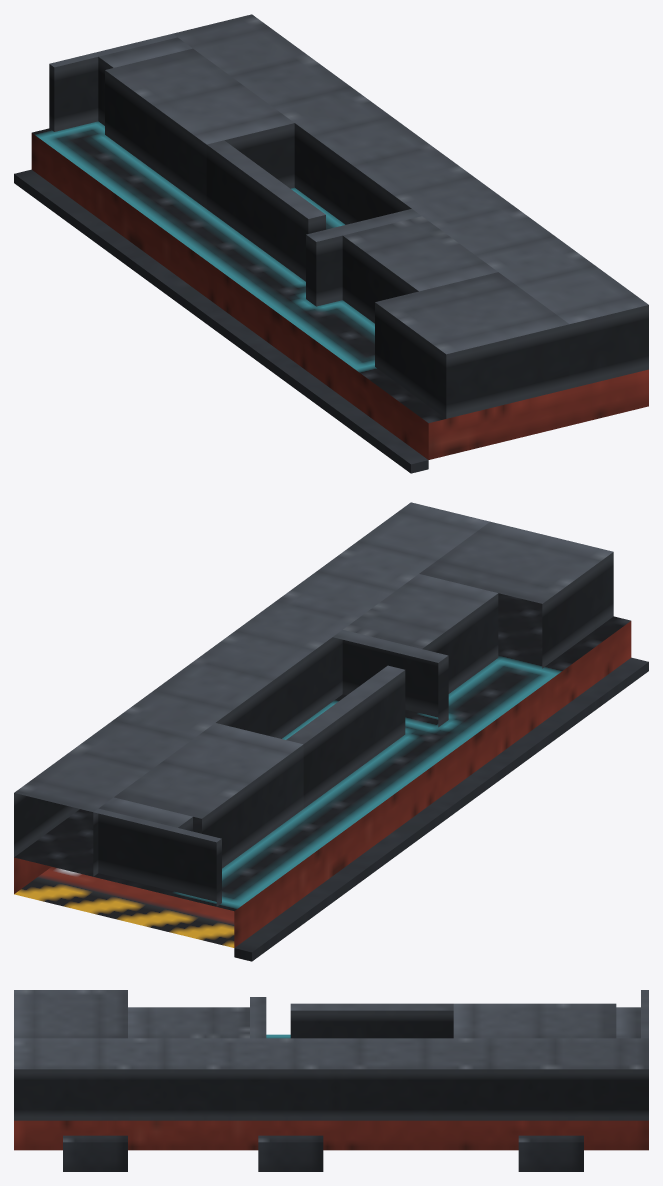
Rendered from loadout_station_door_left.obj.
3 renders of one model, top to bottom at view 1: azimuth 30°, elevation 25°; view 2: azimuth 150°, elevation 25°; view 3: azimuth 270°, elevation 25°, orthographic. The views are drawn at different scales.
Visible parts, largest first — view 1: loadout_station_door_left_Fill_outer, loadout_station_door_left_Skin, loadout_station_door_left_Fill_top, loadout_station_door_left_Fill_leg, loadout_station_door_left_Seam_lip, loadout_station_door_left_Fill_head, loadout_station_door_left_Fill_sep, loadout_station_door_left_Fill_kick, loadout_station_door_left_Fill_neck, loadout_station_door_left_Fill_boot; view 2: loadout_station_door_left_Skin, loadout_station_door_left_Fill_outer, loadout_station_door_left_Fill_leg, loadout_station_door_left_Fill_top, loadout_station_door_left_Seam_lip, loadout_station_door_left_Fill_head, loadout_station_door_left_Fill_sep, loadout_station_door_left_Fill_kick, loadout_station_door_left_Fill_neck, loadout_station_door_left_Fill_boot; view 3: loadout_station_door_left_Fill_outer, loadout_station_door_left_Skin, loadout_station_door_left_Fill_sep, loadout_station_door_left_Fill_leg, loadout_station_door_left_Fill_top, loadout_station_door_left_Fill_head, loadout_station_door_left_Knuckle_0, loadout_station_door_left_Knuckle_1, loadout_station_door_left_Knuckle_2, loadout_station_door_left_Fill_boot, loadout_station_door_left_Fill_neck, loadout_station_door_left_Fill_kick.
Boxes of the visible parts, x1,y1,x2,y2 form: loadout_station_door_left_Fill_outer: [173, 14, 648, 388]; loadout_station_door_left_Skin: [31, 121, 648, 459]; loadout_station_door_left_Fill_top: [375, 272, 569, 418]; loadout_station_door_left_Fill_leg: [105, 48, 294, 208]; loadout_station_door_left_Seam_lip: [14, 169, 428, 473]; loadout_station_door_left_Fill_head: [342, 216, 497, 323]; loadout_station_door_left_Fill_sep: [206, 140, 325, 281]; loadout_station_door_left_Fill_kick: [49, 33, 177, 131]; loadout_station_door_left_Fill_neck: [306, 209, 421, 306]; loadout_station_door_left_Fill_boot: [98, 37, 192, 125]; loadout_station_door_left_Skin: [14, 593, 631, 947]; loadout_station_door_left_Fill_outer: [14, 502, 489, 876]; loadout_station_door_left_Fill_leg: [114, 723, 303, 868]; loadout_station_door_left_Fill_top: [419, 521, 613, 668]; loadout_station_door_left_Seam_lip: [234, 657, 648, 961]; loadout_station_door_left_Fill_head: [343, 574, 498, 693]; loadout_station_door_left_Fill_sep: [286, 665, 405, 808]; loadout_station_door_left_Fill_kick: [93, 808, 221, 906]; loadout_station_door_left_Fill_neck: [333, 630, 448, 727]; loadout_station_door_left_Fill_boot: [98, 797, 192, 831]; loadout_station_door_left_Fill_outer: [14, 1038, 648, 1120]; loadout_station_door_left_Skin: [14, 1034, 648, 1150]; loadout_station_door_left_Fill_sep: [290, 1003, 453, 1038]; loadout_station_door_left_Fill_leg: [453, 1003, 616, 1038]; loadout_station_door_left_Fill_top: [14, 990, 127, 1038]; loadout_station_door_left_Fill_head: [128, 1007, 249, 1038]; loadout_station_door_left_Knuckle_0: [518, 1135, 583, 1171]; loadout_station_door_left_Knuckle_1: [258, 1135, 323, 1171]; loadout_station_door_left_Knuckle_2: [63, 1135, 127, 1171]; loadout_station_door_left_Fill_boot: [616, 1007, 640, 1038]; loadout_station_door_left_Fill_neck: [250, 997, 266, 1038]; loadout_station_door_left_Fill_kick: [641, 990, 648, 1038].
Size of the model in its own units: 0.9062 by 0.4062 by 2.44.
